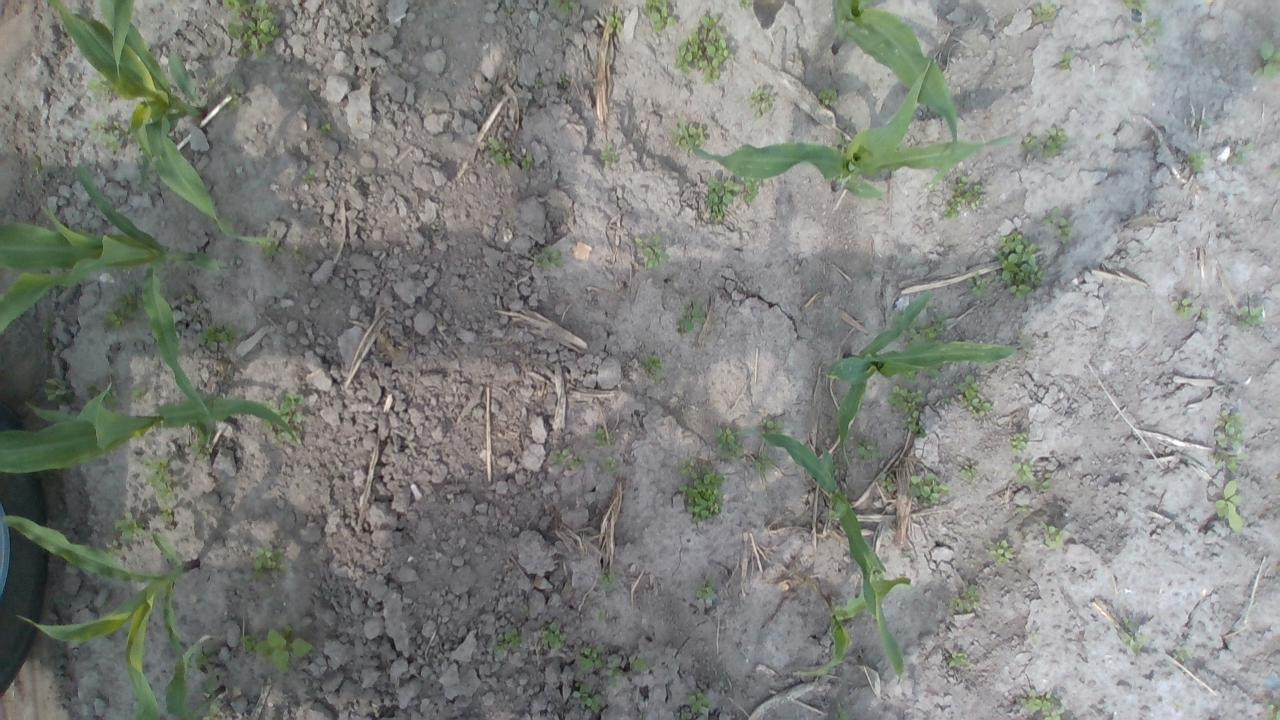Maize: (44, 0, 276, 247), (0, 163, 212, 421), (683, 56, 1013, 198), (3, 514, 202, 720), (756, 432, 904, 679), (824, 292, 1018, 466), (0, 376, 298, 474), (829, 0, 960, 189), (796, 579, 911, 677), (166, 634, 223, 720), (98, 0, 136, 83)
Weeds: (220, 0, 282, 65), (673, 12, 729, 82), (240, 624, 315, 674), (995, 231, 1044, 298), (676, 460, 724, 523), (1208, 413, 1248, 475), (262, 392, 306, 445), (103, 285, 147, 331), (942, 176, 984, 220), (140, 456, 176, 505), (1214, 478, 1244, 534), (706, 175, 741, 222), (896, 312, 946, 344), (957, 374, 993, 417), (1023, 126, 1068, 160), (908, 472, 948, 507), (1021, 688, 1064, 720), (90, 116, 126, 152), (574, 678, 606, 714), (252, 543, 288, 575), (1120, 616, 1150, 654), (635, 236, 668, 270), (1252, 41, 1280, 80), (671, 118, 707, 148), (642, 0, 676, 31), (713, 426, 743, 460), (196, 322, 238, 346), (1042, 207, 1073, 239), (113, 511, 146, 540), (889, 385, 924, 412), (677, 302, 705, 333), (746, 88, 775, 116), (577, 643, 607, 670), (488, 136, 514, 167), (496, 626, 524, 654), (953, 584, 980, 612), (190, 640, 213, 672), (1039, 521, 1064, 549), (542, 622, 567, 650), (86, 72, 115, 96), (686, 688, 712, 714), (641, 351, 664, 380), (606, 656, 625, 690), (186, 294, 208, 322), (989, 540, 1012, 566), (855, 440, 883, 461), (742, 174, 760, 206), (1131, 16, 1163, 34), (694, 576, 717, 601), (260, 245, 300, 259), (1186, 150, 1209, 174), (902, 410, 924, 435), (44, 376, 66, 401), (816, 87, 844, 106), (968, 276, 992, 298), (598, 570, 620, 594), (1237, 306, 1263, 326), (751, 448, 770, 475), (1171, 298, 1194, 320), (1031, 0, 1058, 18), (1232, 142, 1254, 164), (540, 248, 564, 268), (189, 439, 211, 460), (1008, 431, 1028, 454), (101, 387, 120, 411), (546, 0, 578, 14), (1014, 462, 1034, 484), (762, 417, 784, 436), (876, 472, 898, 491), (946, 650, 969, 668), (550, 447, 570, 466), (629, 656, 650, 674), (598, 144, 618, 162), (1118, 0, 1150, 11), (607, 12, 624, 32), (228, 86, 241, 112), (1058, 48, 1072, 70), (591, 430, 606, 450), (521, 152, 536, 172), (301, 168, 318, 185), (1174, 648, 1192, 664), (834, 703, 850, 720), (1265, 702, 1280, 720), (959, 466, 976, 480), (572, 455, 586, 469), (160, 508, 173, 522), (926, 368, 942, 379), (1039, 479, 1052, 492), (1194, 118, 1207, 131), (604, 458, 616, 472), (558, 70, 568, 86), (826, 510, 839, 522), (130, 388, 144, 398), (737, 0, 752, 9), (596, 609, 605, 624), (319, 123, 330, 134), (31, 164, 43, 174), (518, 606, 530, 616), (1144, 36, 1155, 46), (534, 78, 544, 88), (1146, 62, 1156, 72), (504, 6, 514, 16), (1020, 505, 1030, 514)
